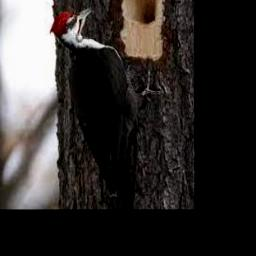Woodpecker: (50, 7, 160, 209)
